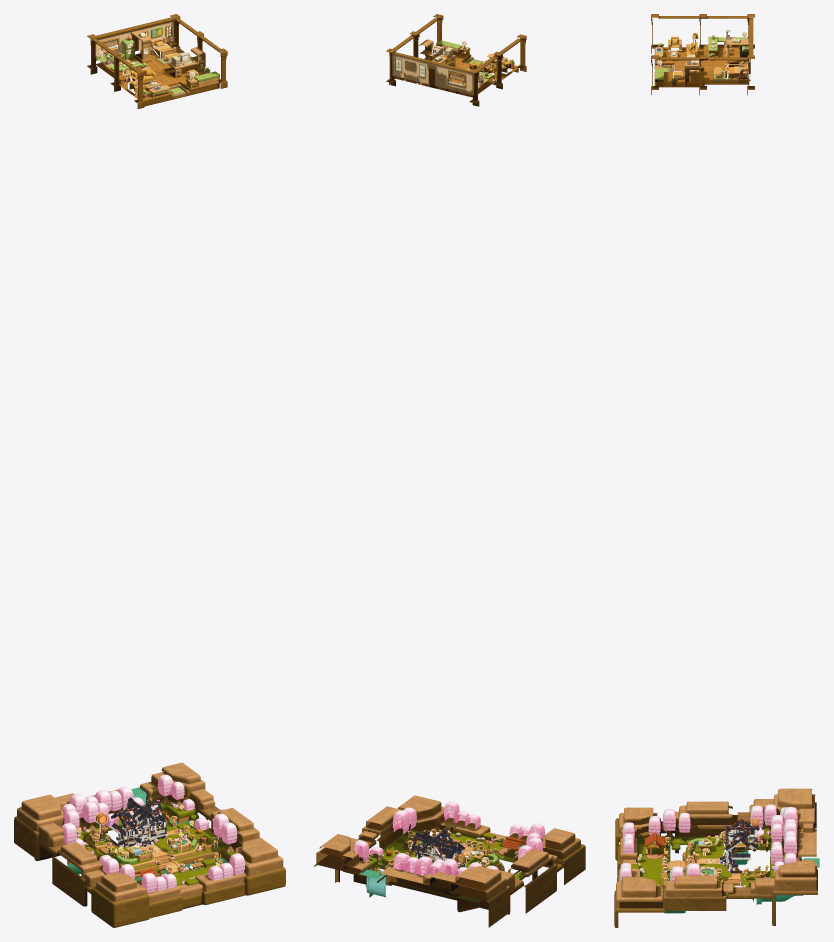
File: Models.glb
3 renders of one model, left to right at view 1: azimuth 30°, elevation 25°; view 2: azimuth 150°, elevation 25°; view 3: azimuth 270°, elevation 25°, orthographic. The views are drawn at different scales.
Visible parts, largest first — view 1: Mountains_lp, Home_Interior_lp1, Trees_lp, Land_lp, Home_lp, Home_Interior_lp2, Land_lp_NoLight; view 2: Mountains_lp, Home_Interior_lp1, Trees_lp, Land_lp, Home_lp; view 3: Mountains_lp, Land_lp, Home_Interior_lp1, Trees_lp, Home_lp, Home_Interior_lp2.
Boxes of the visible parts, <box> form: Mountains_lp: <box>14,762,285,927</box>; Home_Interior_lp1: <box>87,14,227,108</box>; Trees_lp: <box>61,774,245,893</box>; Land_lp: <box>65,801,235,885</box>; Home_lp: <box>109,797,167,847</box>; Home_Interior_lp2: <box>98,24,210,98</box>; Land_lp_NoLight: <box>67,787,229,880</box>; Mountains_lp: <box>314,795,585,927</box>; Home_Interior_lp1: <box>386,14,526,106</box>; Trees_lp: <box>353,801,545,875</box>; Land_lp: <box>362,829,526,902</box>; Home_lp: <box>409,828,465,867</box>; Mountains_lp: <box>614,788,817,927</box>; Land_lp: <box>631,818,784,901</box>; Home_Interior_lp1: <box>651,14,754,95</box>; Trees_lp: <box>619,804,797,887</box>; Home_lp: <box>720,818,758,873</box>; Home_Interior_lp2: <box>656,30,750,85</box>.
Size of what is drawn, in the model's own units: 46.47 by 213 by 46.57.
Materials: 21 (15 with a texture image).
